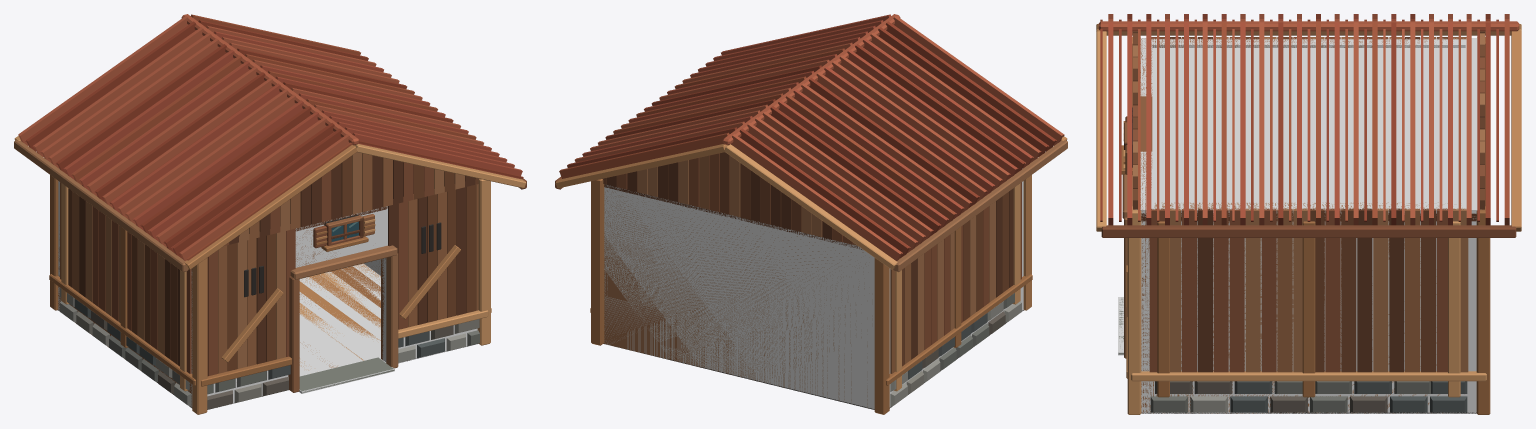
File: drying_barn.glb
3 renders of one model, left to right at view 1: azimuth 30°, elevation 25°; view 2: azimuth 150°, elevation 25°; view 3: azimuth 270°, elevation 25°, orthographic. The views are drawn at different scales.
Visible parts, largest first — view 1: Roof, Cladding, Frame, Shell-col, Gables, Stonework, Fascia, Roof seams, Doorframe, Floorboards, Threshold, Windows (+3 smaller); view 2: Roof, Shell-col, Walls, Cladding, Frame, Gables, Fascia, Roof seams, Stonework, Ceiling; view 3: Cladding, Ceiling-col, Roof, Frame, Shell-col, Roof seams, Fascia, Stonework, Walls, Gables, Doorframe, Floor.
Boxes of the visible parts, bbox=[...] form: Roof: bbox=[18, 14, 522, 260]; Cladding: bbox=[60, 179, 478, 376]; Frame: bbox=[49, 175, 491, 414]; Shell-col: bbox=[58, 168, 477, 408]; Gables: bbox=[224, 152, 479, 245]; Stonework: bbox=[60, 288, 479, 409]; Fascia: bbox=[14, 136, 526, 271]; Roof seams: bbox=[25, 24, 523, 260]; Doorframe: bbox=[288, 245, 398, 392]; Floorboards: bbox=[299, 263, 380, 370]; Threshold: bbox=[299, 357, 394, 393]; Windows: bbox=[321, 214, 368, 251]; Roof: bbox=[559, 14, 1063, 260]; Shell-col: bbox=[604, 168, 1023, 409]; Walls: bbox=[603, 190, 867, 407]; Cladding: bbox=[890, 182, 1021, 373]; Frame: bbox=[590, 175, 1032, 414]; Gables: bbox=[602, 152, 857, 245]; Fascia: bbox=[555, 136, 1067, 271]; Roof seams: bbox=[739, 18, 1064, 254]; Stonework: bbox=[890, 293, 1021, 406]; Ceiling: bbox=[604, 184, 862, 249]; Cladding: bbox=[1149, 37, 1468, 372]; Ceiling-col: bbox=[1141, 48, 1476, 221]; Roof: bbox=[1098, 14, 1519, 225]; Frame: bbox=[1126, 36, 1490, 414]; Shell-col: bbox=[1136, 38, 1477, 413]; Roof seams: bbox=[1100, 19, 1498, 221]; Fascia: bbox=[1096, 24, 1521, 237]; Stonework: bbox=[1150, 381, 1467, 412]; Walls: bbox=[1140, 38, 1447, 413]; Gables: bbox=[1133, 31, 1484, 209]; Doorframe: bbox=[1122, 174, 1132, 358]; Floor: bbox=[1141, 412, 1476, 413].
Size of the model in its own units: 8.16 by 5.67 by 7.12.
